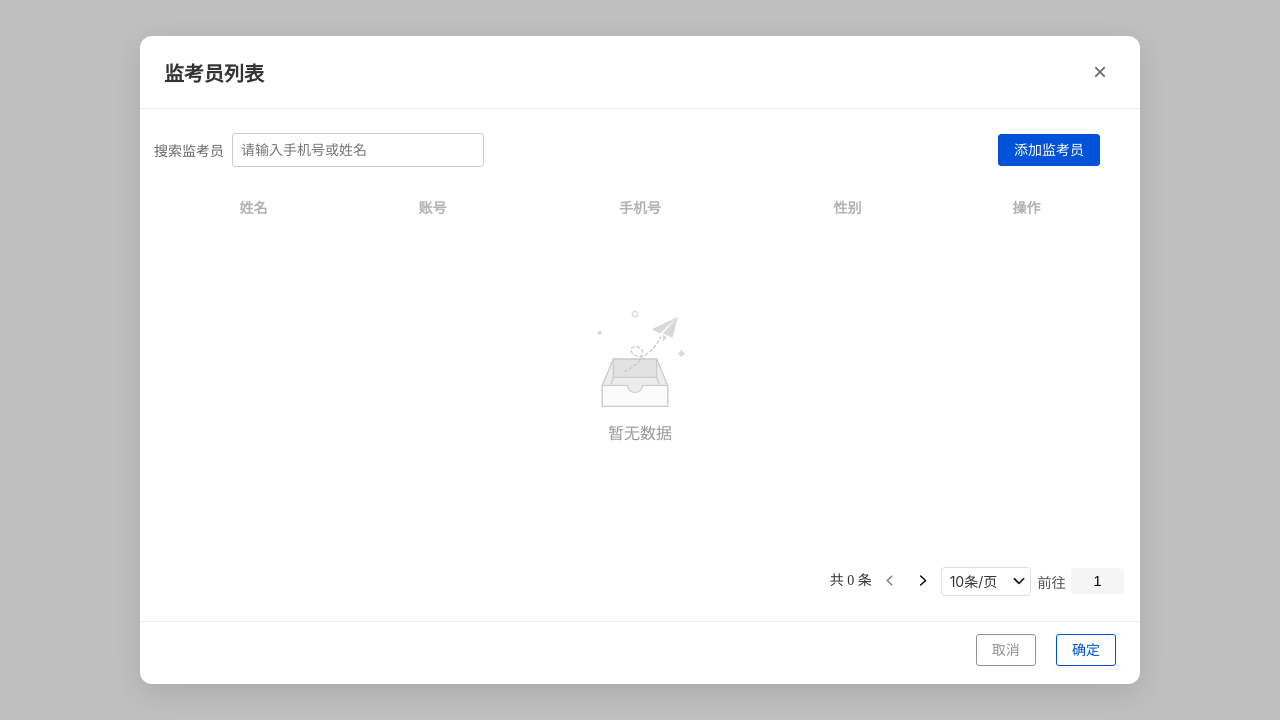
it: InvigilatorSelectionPanel 组件测试 › 模式切换功能测试 › 模式切换时按钮样式应该更新
Note:  切换到选择模式
Step 1. Click the button with class "btn--primary" showing "添加监考员" → (1049, 150), box [998,134,1100,166]
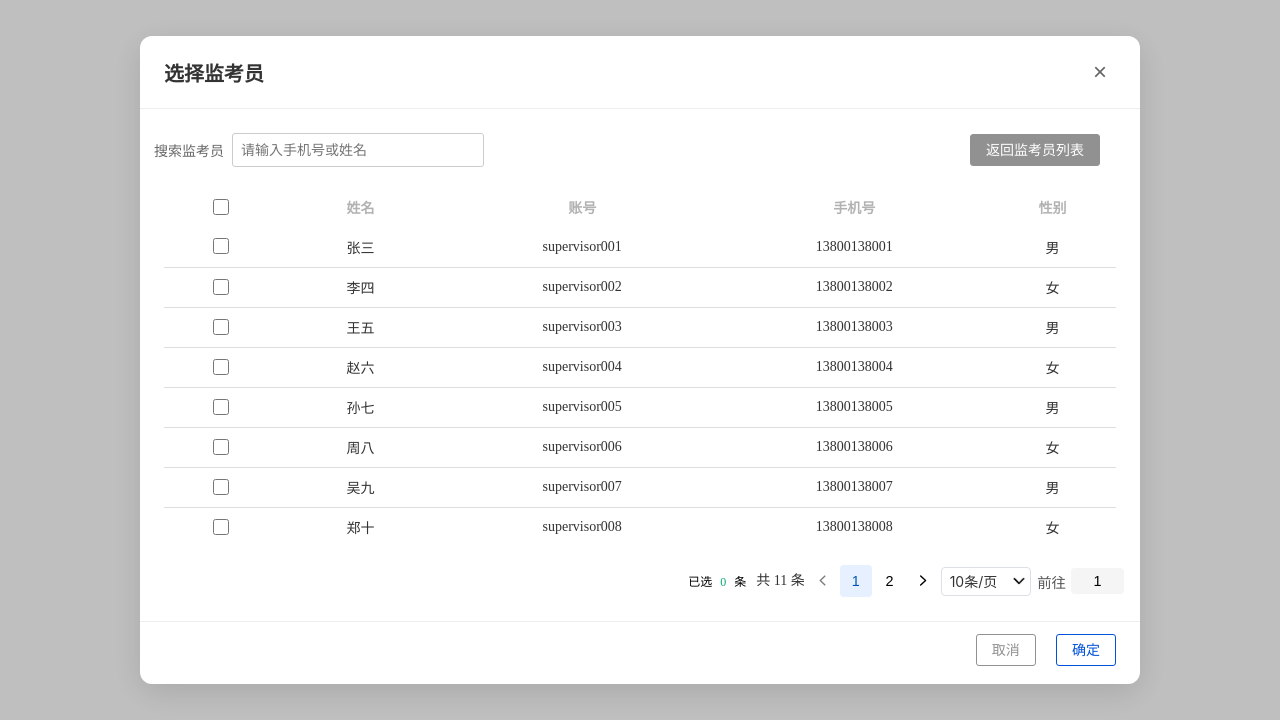
Expected: the button with class "btn--primary" reads "返回监考员列表", [970,134,1100,166]
